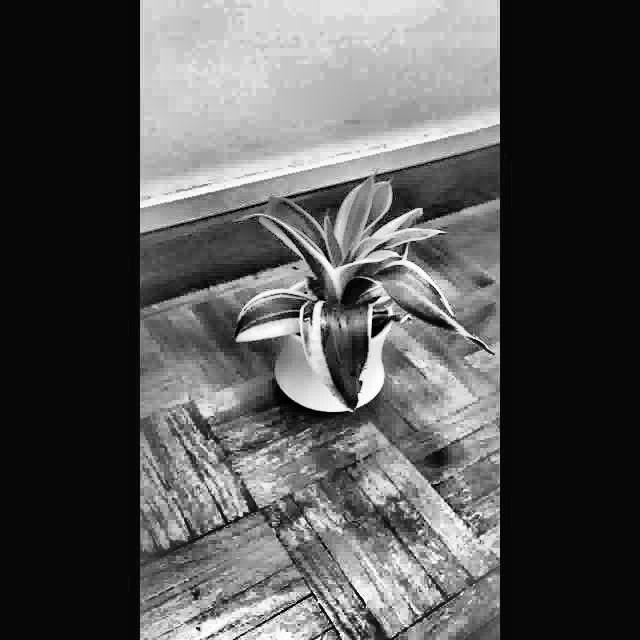plants: (216, 152, 495, 428)
